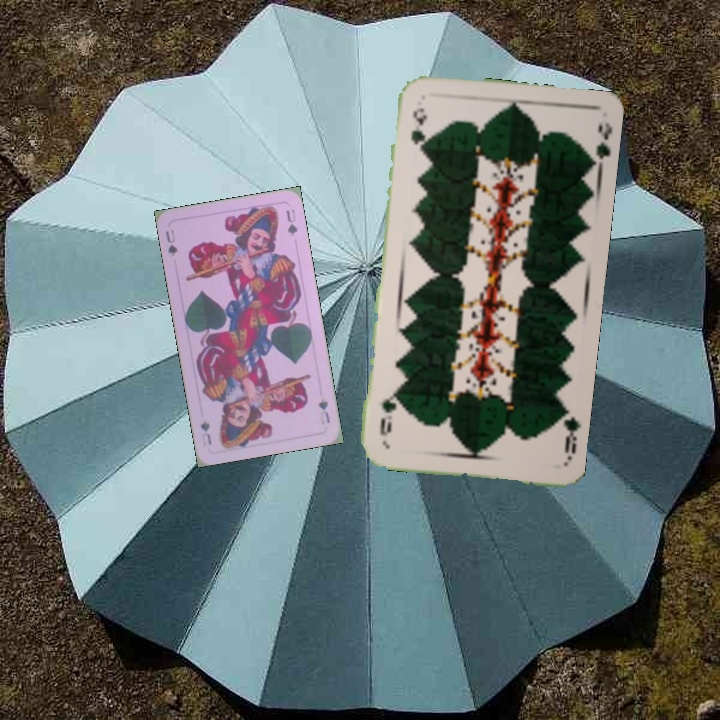G9: (554, 403, 582, 463), (406, 104, 428, 153)
GU: (161, 226, 180, 259), (314, 394, 332, 427)
